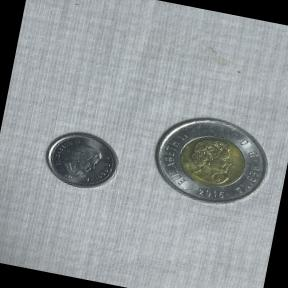Canada-10cent-B: (32, 117, 130, 202)
Canada-2Dollar-B: (139, 102, 288, 231)
